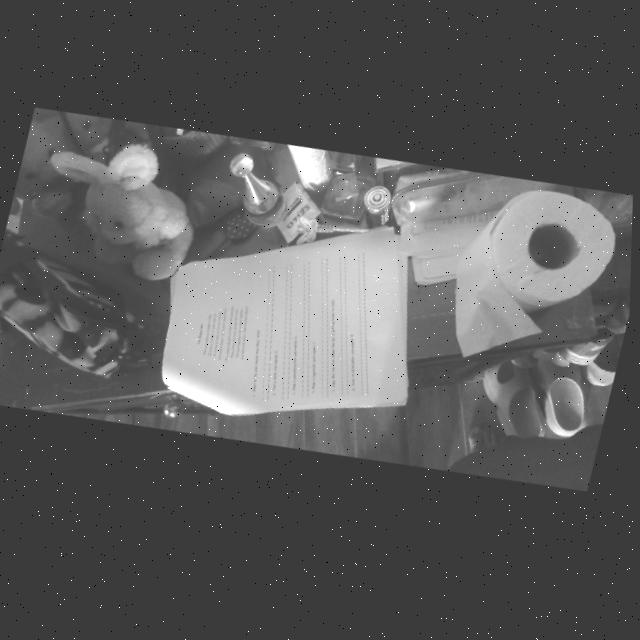document: (162, 226, 408, 414)
